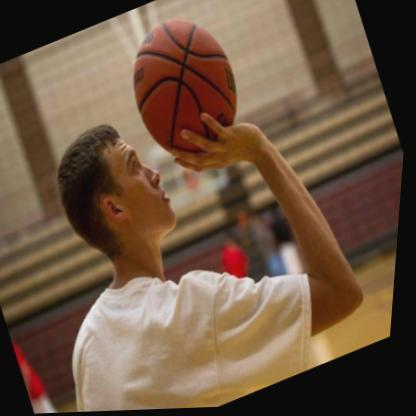basketball: (112, 3, 259, 168)
